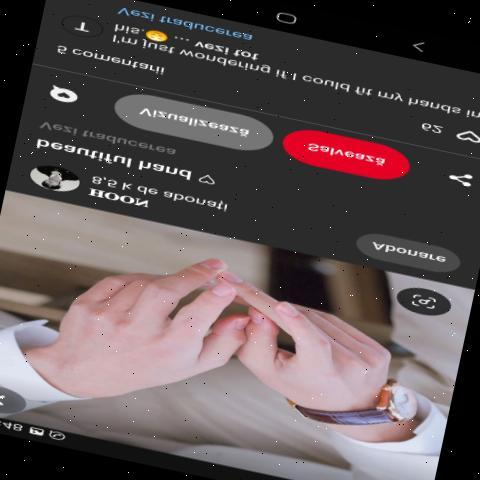Hands: (27, 246, 246, 403), (238, 280, 419, 404)
